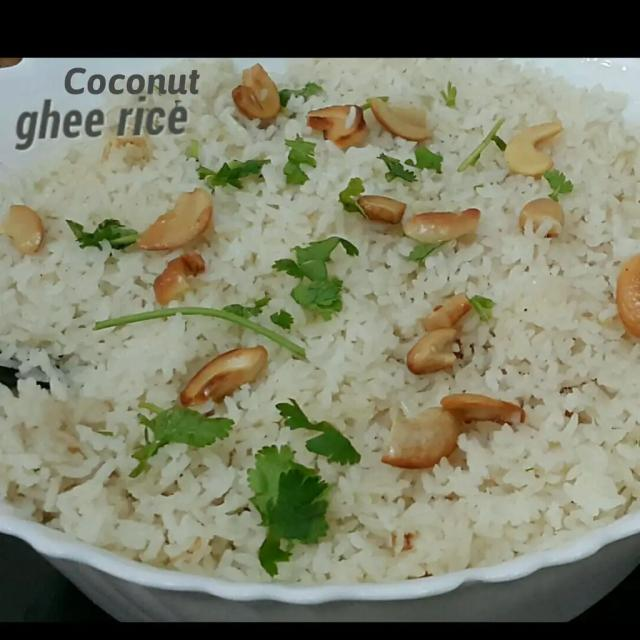nei satham: (0, 54, 640, 588)
